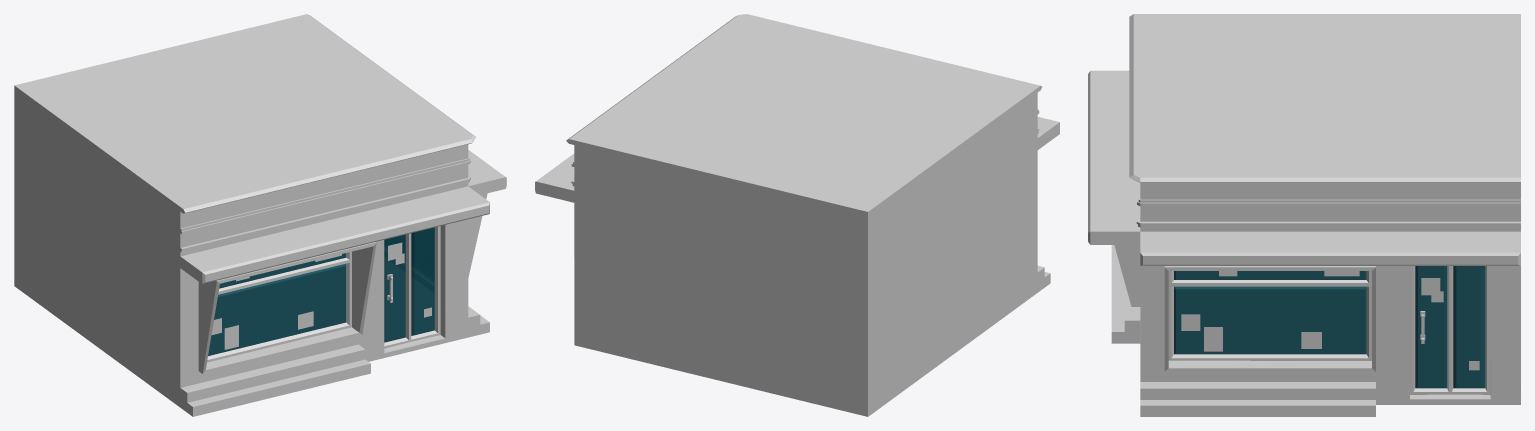
The model's file is building_shop_corner_02.fbx.
3 renders of one model, left to right at view 1: azimuth 30°, elevation 25°; view 2: azimuth 150°, elevation 25°; view 3: azimuth 270°, elevation 25°, orthographic. The views are drawn at different scales.
Visible parts, largest first — view 1: building_shop_corner_02, building_shop_corner_02_glass; view 2: building_shop_corner_02; view 3: building_shop_corner_02, building_shop_corner_02_glass.
Boxes of the visible parts, bbox=[...] form: building_shop_corner_02: bbox=[14, 14, 506, 416]; building_shop_corner_02_glass: bbox=[208, 227, 434, 355]; building_shop_corner_02: bbox=[535, 14, 1059, 416]; building_shop_corner_02: bbox=[1088, 14, 1520, 416]; building_shop_corner_02_glass: bbox=[1174, 266, 1485, 388].
Size of the model in its own units: 682 by 400 by 682.
